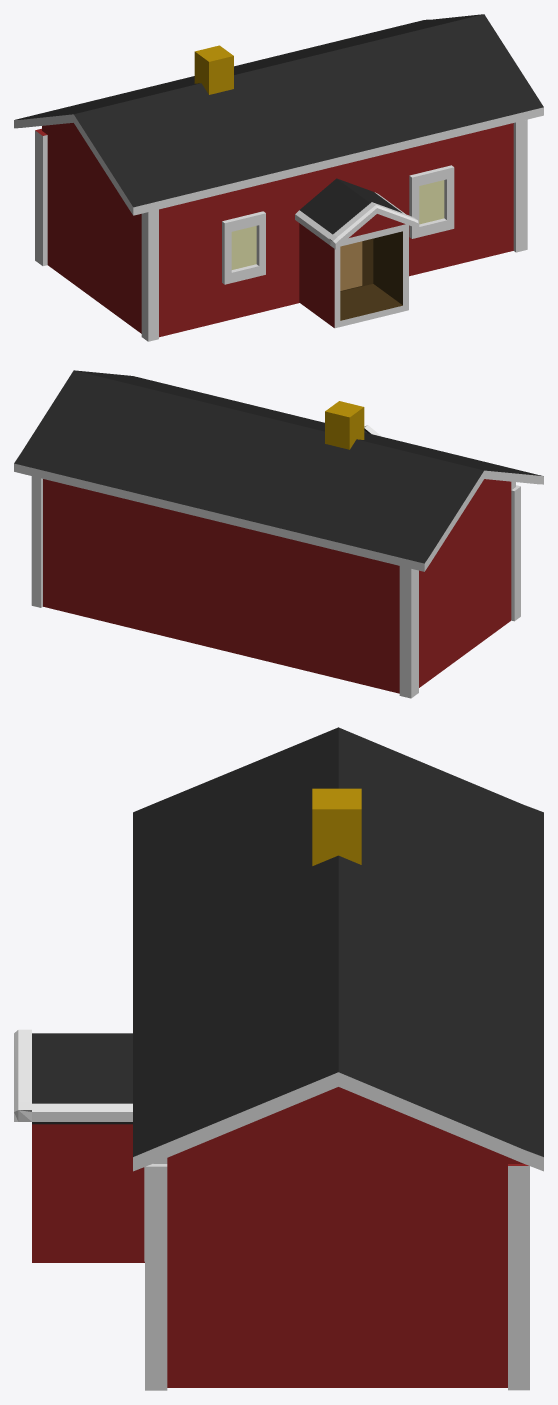
File: building_main_house.fbx
The picture shows the model from 3 angles, top to bottom: view 1: azimuth 30°, elevation 25°; view 2: azimuth 150°, elevation 25°; view 3: azimuth 270°, elevation 25°; orthographic projection. The views are drawn at different scales.
Visible parts, largest first — view 1: mainHouse; view 2: mainHouse; view 3: mainHouse.
Part boxes in pixels (x1,y1,x2,y2): mainHouse: [14, 14, 543, 341]; mainHouse: [14, 370, 543, 698]; mainHouse: [14, 727, 543, 1390].
Bounding box in the file's own units: 331 × 168 × 215.
